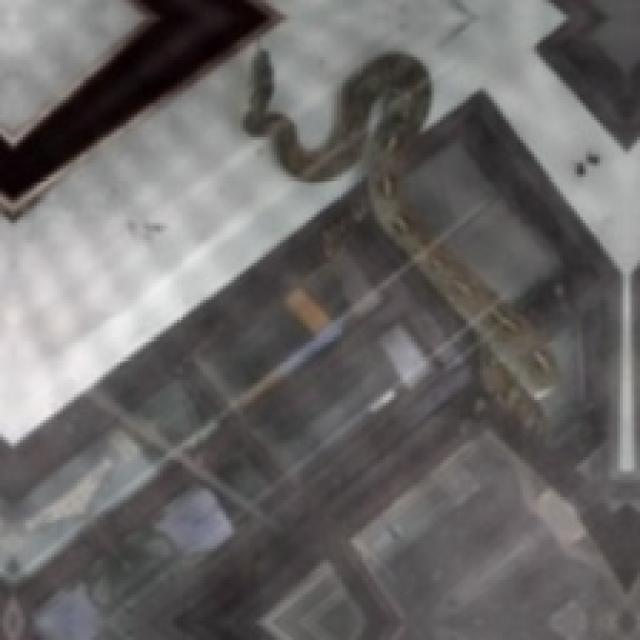reticulated python: (243, 51, 554, 431)
